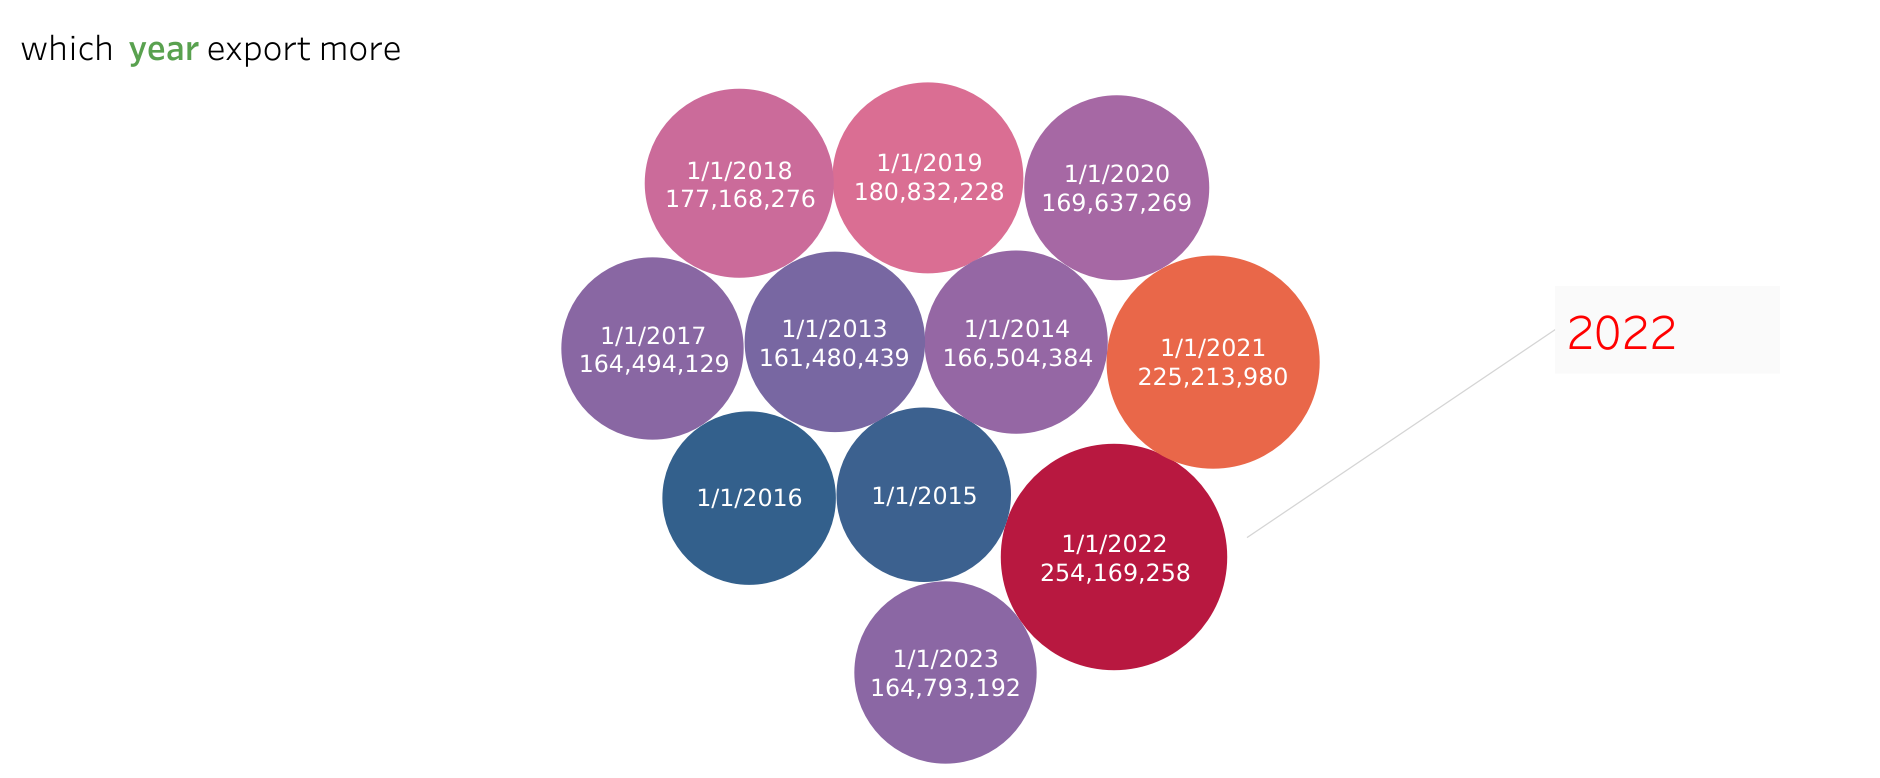

The page's visual inventory and layout, read from the dashboard file:
{"tool":"tableau","page":{"name":"YEAR EXPORT","canvas":[1000,1000],"units":"permille","ordinal":1},"visuals":[{"type":"worksheet","title":"turkish_export yearly","mark":"Circle","box":[5.3,9.4,989.4,981.2]}]}

Visuals, with their boxes on the dashboard's canvas, which has no fixed pixel size, in thousandths of its width and height (x1, y1, x2, y2). These are canvas units, not pixel positions in the 1880x778 screenshot, which may show the page scaled, cropped or inside an application window:
"turkish_export yearly" worksheet (Circle marks): left=5, top=9, right=995, bottom=991
